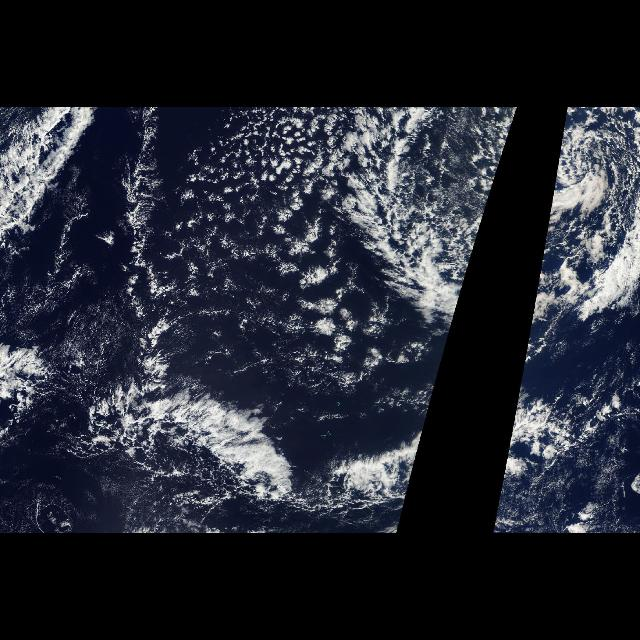Fish: (66, 382, 306, 516), (115, 119, 182, 381)
Gravel: (188, 110, 518, 396), (520, 110, 640, 386)
Sugar: (4, 452, 244, 532), (8, 286, 144, 384)
